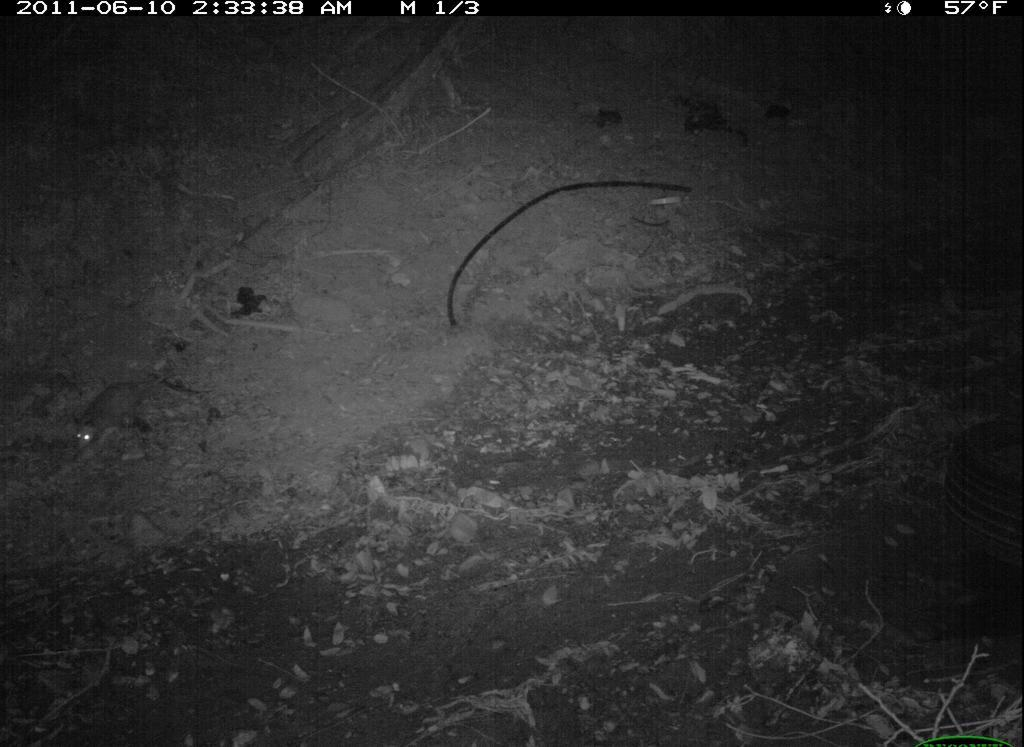opossum: (57, 353, 178, 474)
